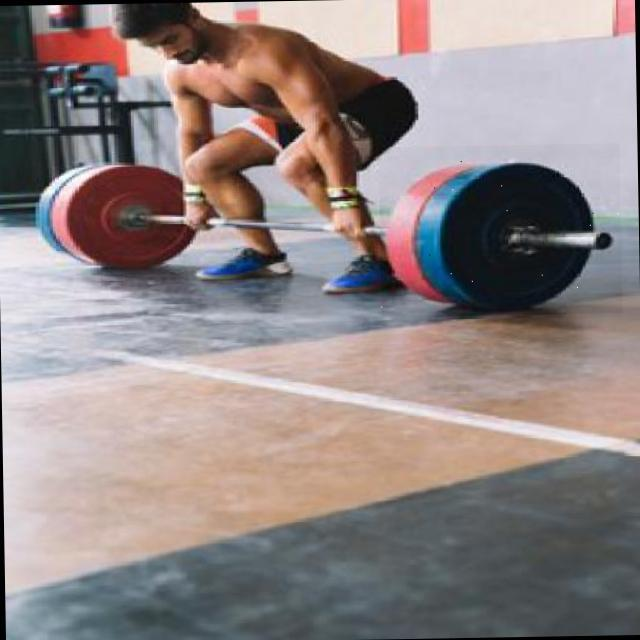barbell: (379, 144, 623, 318)
